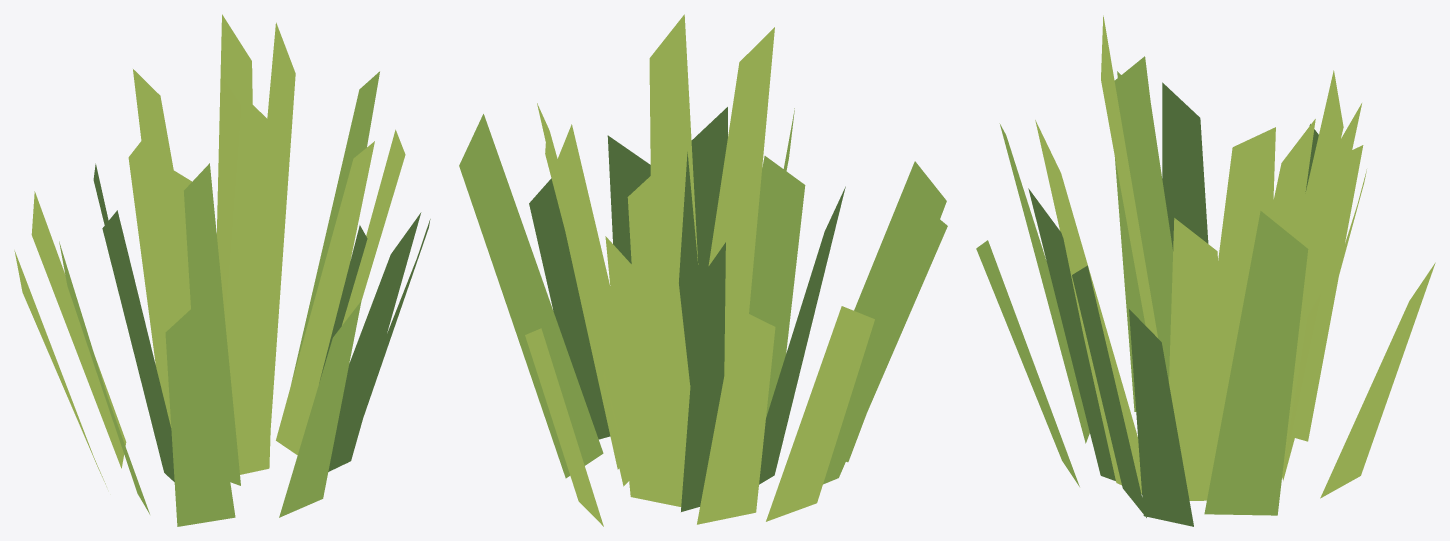
Rendered from SM_Grass_Clump_A.fbx.
3 views of the same model, side by side, from view 1: azimuth 30°, elevation 25°; view 2: azimuth 150°, elevation 25°; view 3: azimuth 270°, elevation 25° (orthographic). The views are drawn at different scales.
Visible parts, largest first — view 1: SM_Grass_Clump_A; view 2: SM_Grass_Clump_A; view 3: SM_Grass_Clump_A.
Boxes of the visible parts, left/top/right/bottom form: SM_Grass_Clump_A: left=14, top=14, right=430, bottom=526; SM_Grass_Clump_A: left=459, top=14, right=947, bottom=526; SM_Grass_Clump_A: left=976, top=15, right=1435, bottom=526.
Size of the model in its own units: 0.5489 by 0.5608 by 0.5336.
